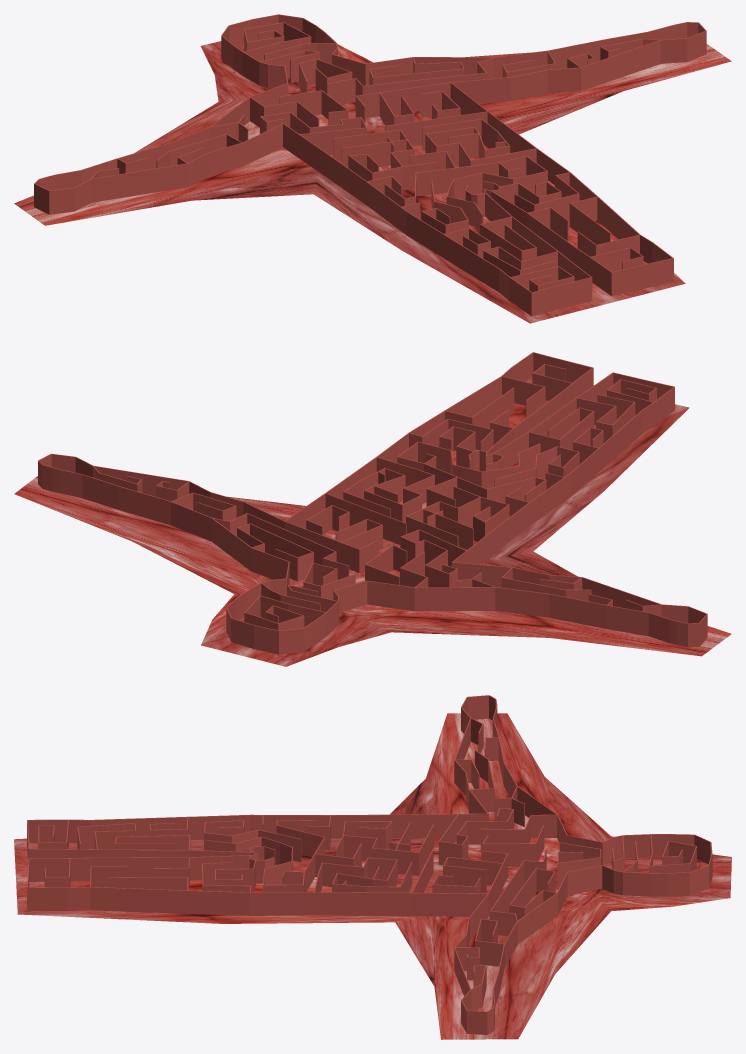
The model's file is mazemanTextured1.fbx.
3 renders of one model, top to bottom at view 1: azimuth 30°, elevation 25°; view 2: azimuth 150°, elevation 25°; view 3: azimuth 270°, elevation 25°, orthographic. The views are drawn at different scales.
Visible parts, largest first — view 1: Cube.001; view 2: Cube.001; view 3: Cube.001.
Part boxes in pixels (left/top/right/bottom): Cube.001: left=14, top=14, right=731, bottom=323; Cube.001: left=14, top=352, right=731, bottom=666; Cube.001: left=14, top=695, right=731, bottom=1039.
Size of the model in its own units: 2318 by 77.09 by 2153.
2 materials, 1 textured.
